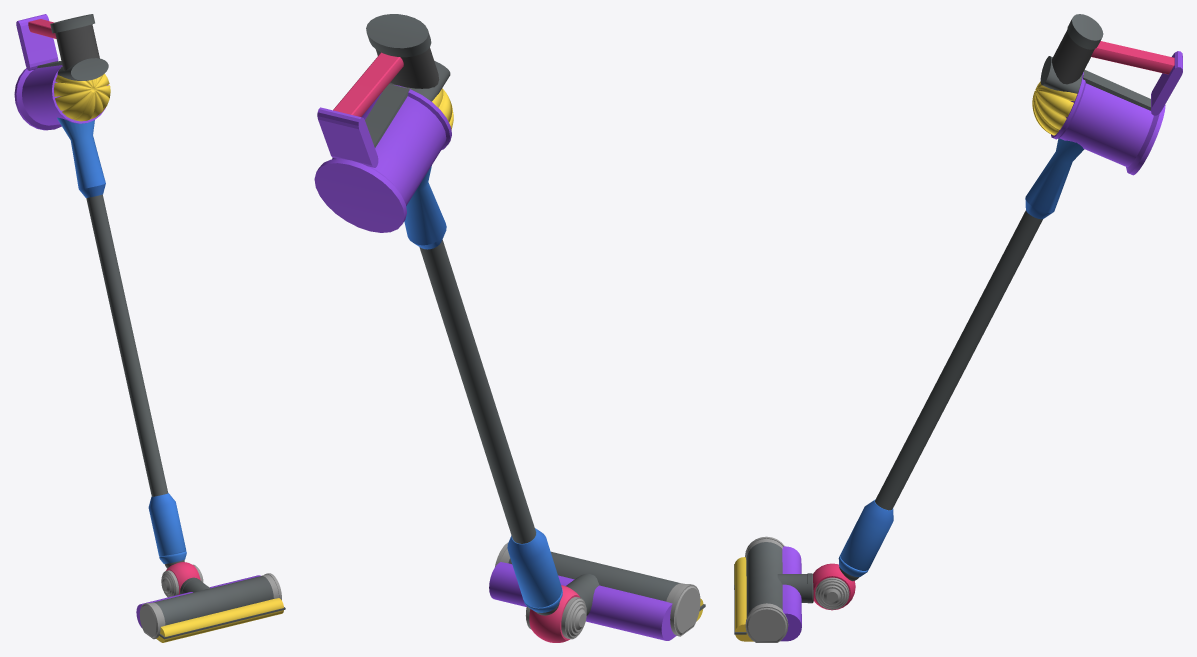
File: Vacume Cleaner.fbx
3 views of the same model, side by side, from view 1: azimuth 30°, elevation 25°; view 2: azimuth 150°, elevation 25°; view 3: azimuth 270°, elevation 25° (orthographic). The views are drawn at different scales.
Visible parts, largest first — view 1: Vacume_Cleaner; view 2: Vacume_Cleaner; view 3: Vacume_Cleaner.
Part boxes in pixels (bbox=[...]): Vacume_Cleaner: bbox=[14, 14, 285, 642]; Vacume_Cleaner: bbox=[314, 14, 705, 642]; Vacume_Cleaner: bbox=[734, 14, 1182, 642].
Size of the model in its own units: 34.48 by 133 by 92.15.
1 material, 1 textured.
